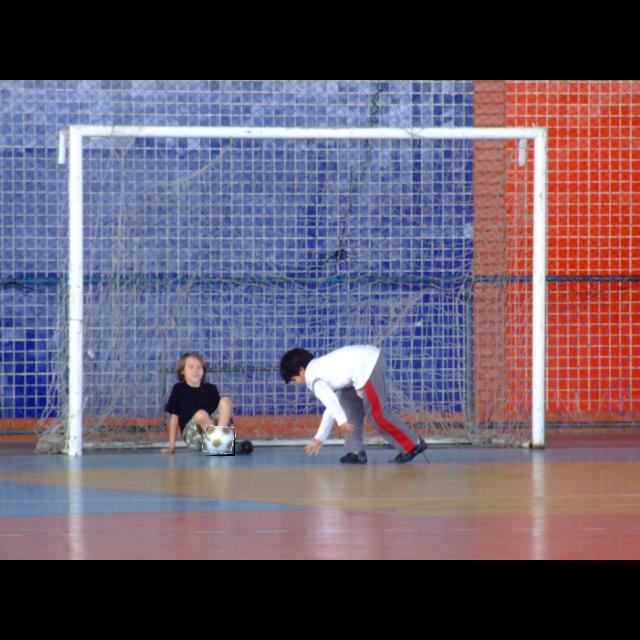Football: (203, 426, 235, 456)
